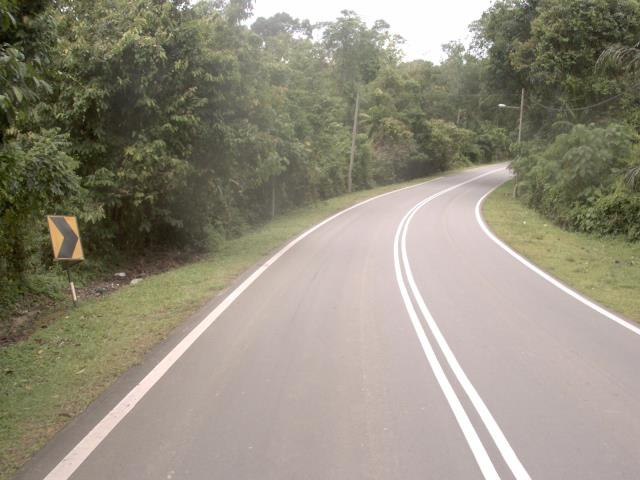traffic_sign: (41, 206, 91, 273)
